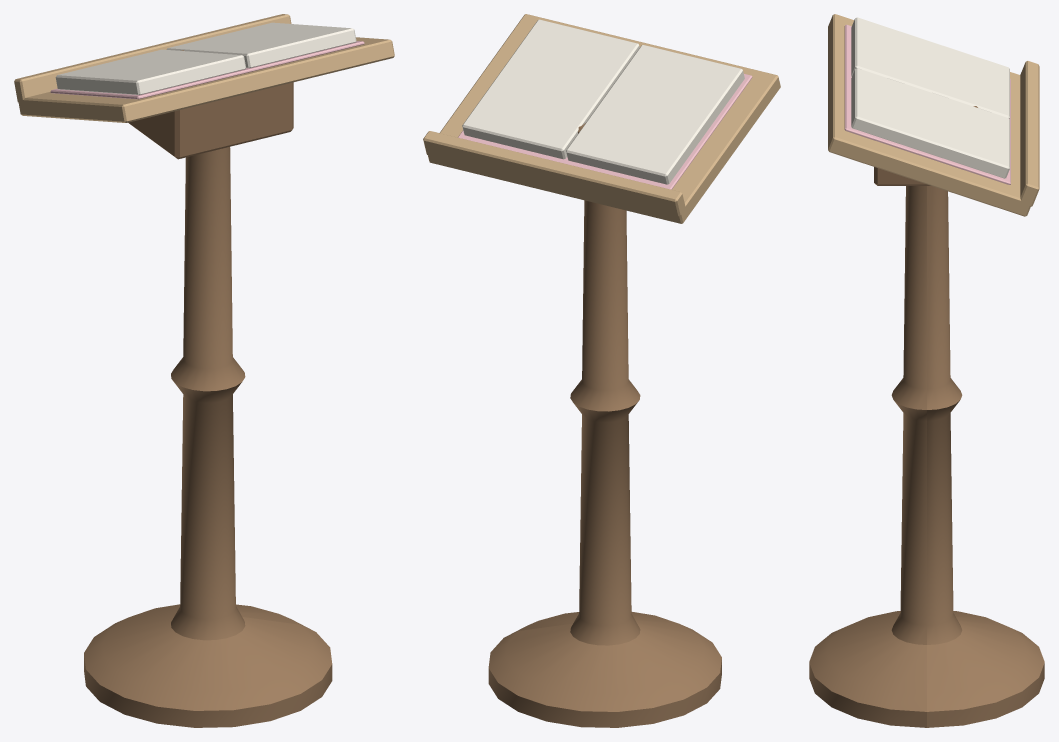
The model's file is wedding-and-chapel-kit-chapel-lectern-df983527.glb.
3 renders of one model, left to right at view 1: azimuth 30°, elevation 25°; view 2: azimuth 150°, elevation 25°; view 3: azimuth 270°, elevation 25°, orthographic. The views are drawn at different scales.
Parts seen in each view (by area): view 1: chapel-lectern; view 2: chapel-lectern; view 3: chapel-lectern.
Boxes of the visible parts, bbox=[...] form: chapel-lectern: bbox=[14, 14, 394, 727]; chapel-lectern: bbox=[423, 14, 780, 727]; chapel-lectern: bbox=[809, 14, 1044, 727].
Size of the model in its own units: 0.5 by 1.14 by 0.4.
